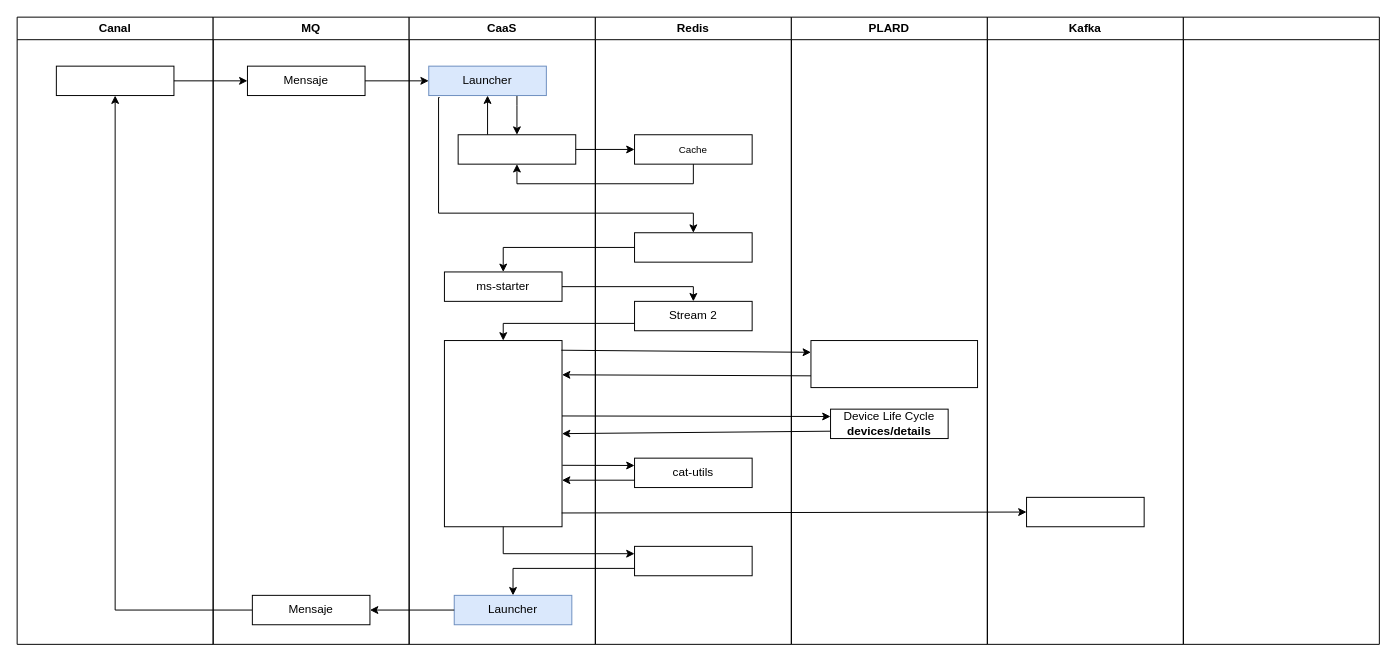
The diagram is 1397 pixels wide and 662 high, and some of its shapes have lost their labels. Here are the shapes that lost their labels. From the top down, the centre of each, then its label:
At pixel 114 80: "MPB7".
At pixel 516 149: "CardPlaceLocator".
At pixel 693 247: "Stream 1".
At pixel 1280 330: "Oracle".
At pixel 894 364: "card-operability-management-api /use_limits/current_consumption".
At pixel 502 433: "devices-limits-mgt".
At pixel 1085 511: "Pista Auditoría".
At pixel 693 560: "Stream respuesta".
